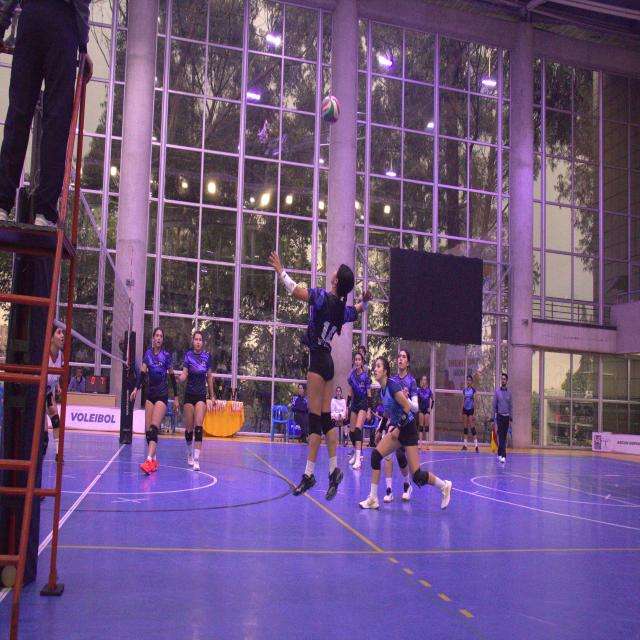volleyball: (321, 94, 341, 126)
